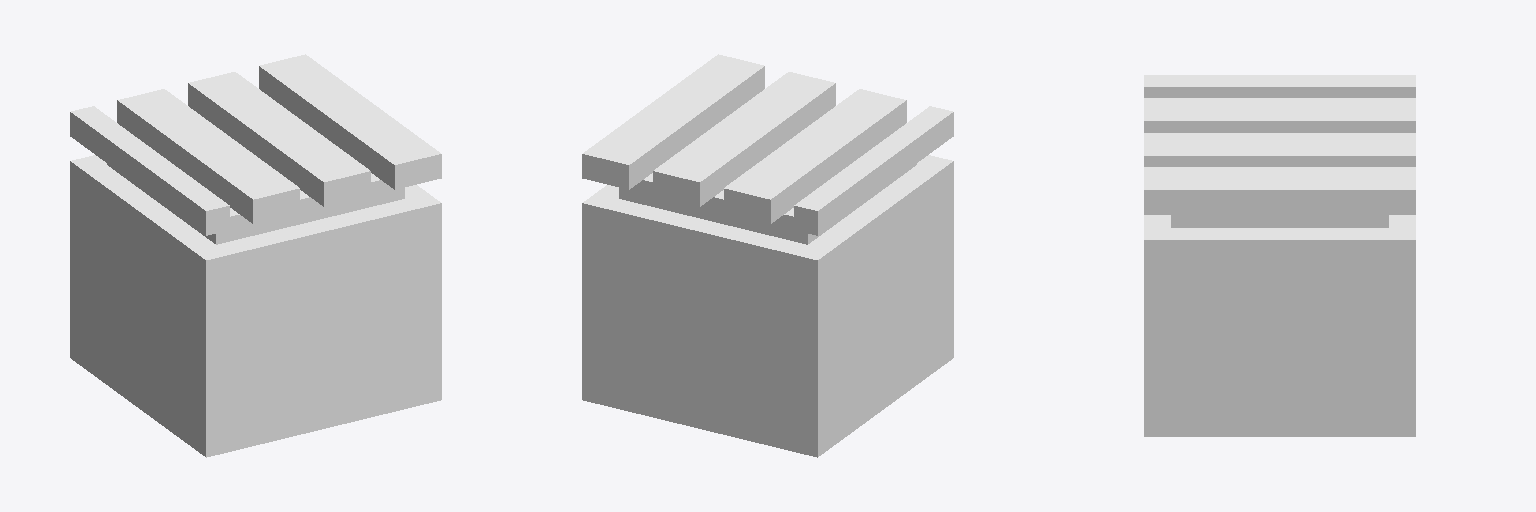
Rendered from ld43-crate.obj.
3 renders of one model, left to right at view 1: azimuth 30°, elevation 25°; view 2: azimuth 150°, elevation 25°; view 3: azimuth 270°, elevation 25°, orthographic.
Visible parts, largest first — view 1: ld43-crate; view 2: ld43-crate; view 3: ld43-crate.
Part boxes in pixels (bbox=[...]): ld43-crate: bbox=[70, 54, 441, 457]; ld43-crate: bbox=[582, 54, 953, 457]; ld43-crate: bbox=[1144, 75, 1415, 436].
Bounding box in the file's own units: 10 × 10 × 10.